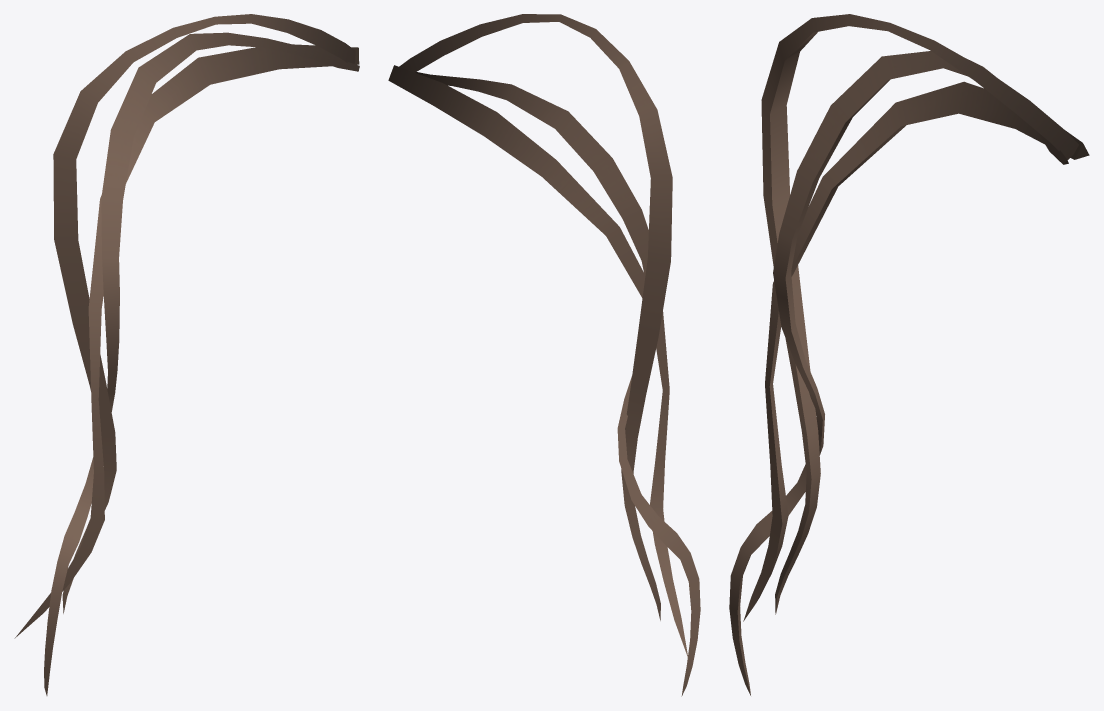
The model's file is Jungle_Vines_Curved_A.fbx.
3 views of the same model, side by side, from view 1: azimuth 30°, elevation 25°; view 2: azimuth 150°, elevation 25°; view 3: azimuth 330°, elevation 25° (orthographic). The views are drawn at different scales.
Parts seen in each view (by area): view 1: Jungle_Vines_Curved_A; view 2: Jungle_Vines_Curved_A; view 3: Jungle_Vines_Curved_A.
Boxes of the visible parts, bbox=[...] form: Jungle_Vines_Curved_A: bbox=[14, 14, 359, 695]; Jungle_Vines_Curved_A: bbox=[388, 14, 700, 696]; Jungle_Vines_Curved_A: bbox=[729, 14, 1089, 695].
Size of the model in its own units: 3.03 by 5.82 by 0.7867.
